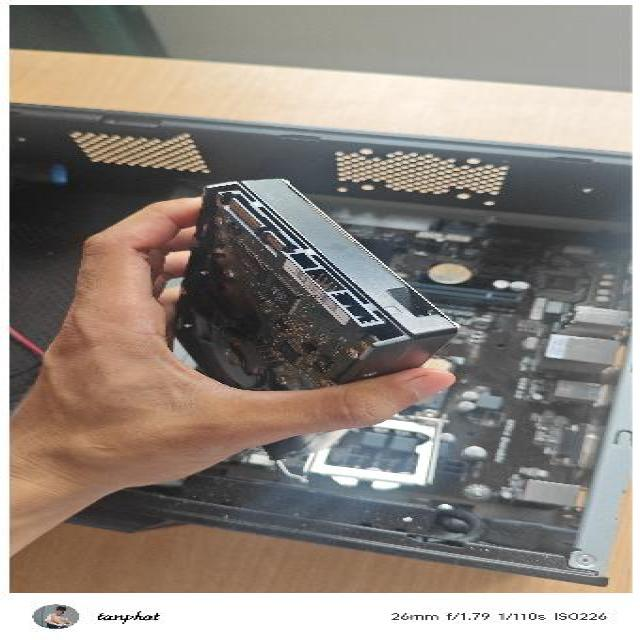DISK: (146, 172, 462, 466)
